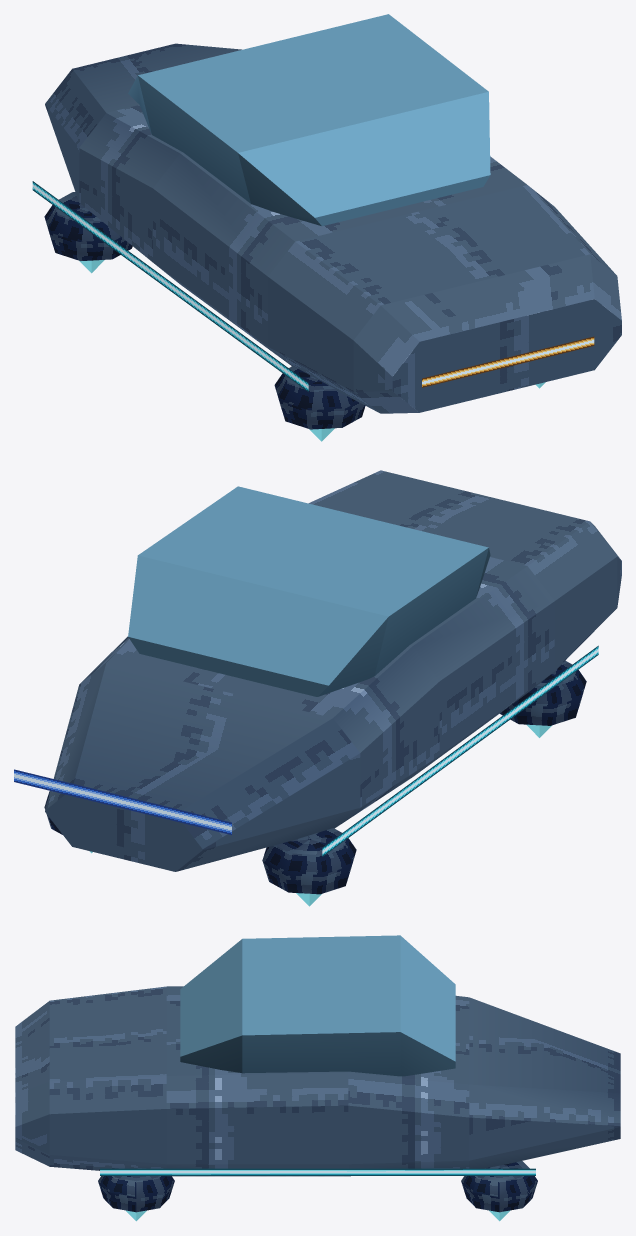
The model's file is cytech.hovercar.glb.
3 views of the same model, one above another, from view 1: azimuth 30°, elevation 25°; view 2: azimuth 150°, elevation 25°; view 3: azimuth 270°, elevation 25° (orthographic). The views are drawn at different scales.
Visible parts, largest first — view 1: kit_hull, kit_canopy, kit_pods, kit_card_lights; view 2: kit_hull, kit_canopy, kit_pods, kit_card_lights; view 3: kit_hull, kit_canopy, kit_pods, kit_card_lights.
Boxes of the visible parts, <box> form: kit_hull: <box>45,43,621,413</box>; kit_canopy: <box>128,14,490,226</box>; kit_pods: <box>44,192,545,441</box>; kit_card_lights: <box>32,181,594,391</box>; kit_hull: <box>45,470,621,871</box>; kit_canopy: <box>128,486,490,696</box>; kit_pods: <box>44,661,586,906</box>; kit_card_lights: <box>14,645,598,856</box>; kit_hull: <box>15,986,620,1176</box>; kit_canopy: <box>180,935,455,1076</box>; kit_pods: <box>98,1161,537,1221</box>; kit_card_lights: <box>100,1168,535,1175</box>.
Bounding box in the file's own units: 2 × 1.57 × 4.42.
Materials: 4 (3 with a texture image).
